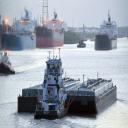tugboat: (35, 45, 70, 123)
